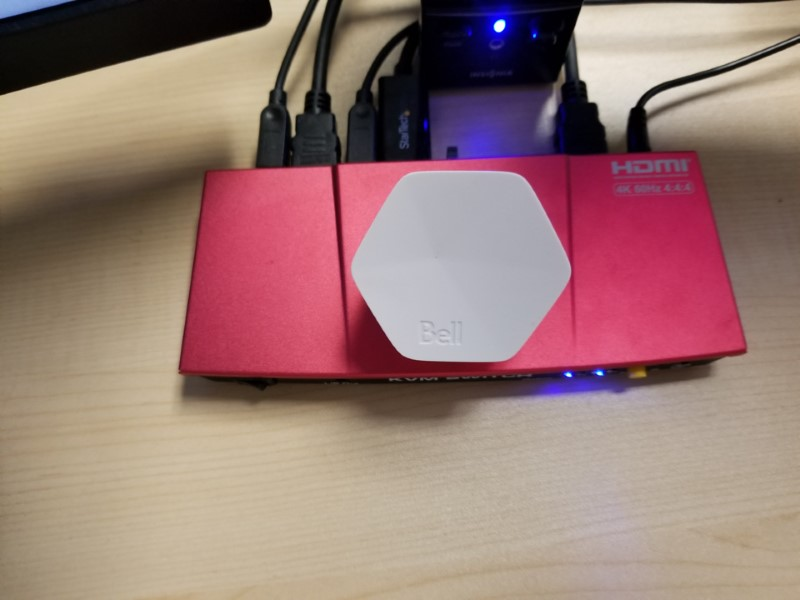pod: (352, 169, 578, 371)
